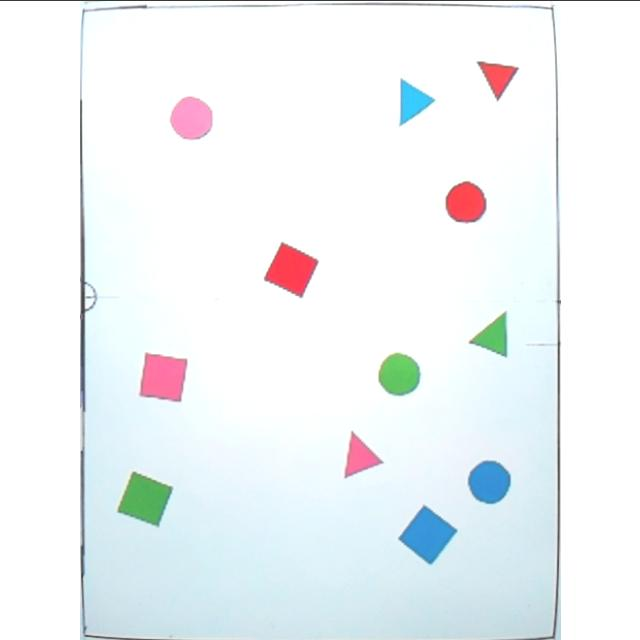blueCircle: (463, 459, 511, 505)
blueSquare: (394, 503, 460, 565)
blueTriangle: (394, 78, 438, 128)
greenCircle: (376, 352, 420, 398)
greenSquare: (113, 469, 175, 529)
greenTriangle: (466, 310, 510, 358)
pinkCircle: (166, 94, 214, 142)
pinkSquare: (138, 352, 186, 402)
pinkTriangle: (340, 429, 386, 478)
redCircle: (441, 178, 489, 225)
redSquare: (262, 236, 321, 300)
redTriangle: (473, 58, 522, 102)
